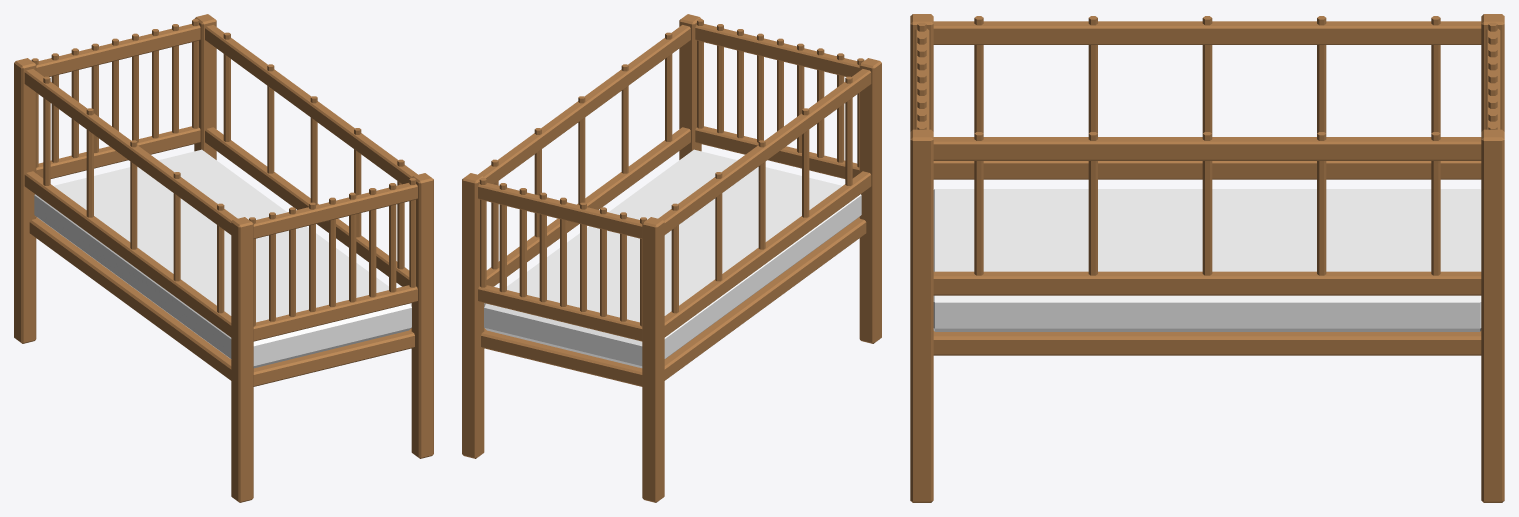
The model's file is cot-child.glb.
The picture shows the model from 3 angles, left to right: view 1: azimuth 30°, elevation 25°; view 2: azimuth 150°, elevation 25°; view 3: azimuth 270°, elevation 25°; orthographic projection. The views are drawn at different scales.
Visible parts, largest first — view 1: cot-child.wood, cot-child.tint; view 2: cot-child.wood, cot-child.tint; view 3: cot-child.wood, cot-child.tint.
Part boxes in pixels (bbox=[...]): cot-child.wood: bbox=[14, 14, 433, 502]; cot-child.tint: bbox=[34, 149, 411, 368]; cot-child.wood: bbox=[462, 14, 881, 502]; cot-child.tint: bbox=[484, 149, 861, 368]; cot-child.wood: bbox=[910, 14, 1504, 502]; cot-child.tint: bbox=[933, 189, 1481, 331].
Bounding box in the file's own units: 0.7 × 0.95 × 1.4.
